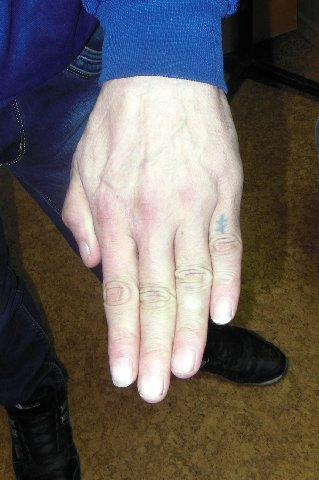tatu9_krest: (212, 211, 232, 233)
